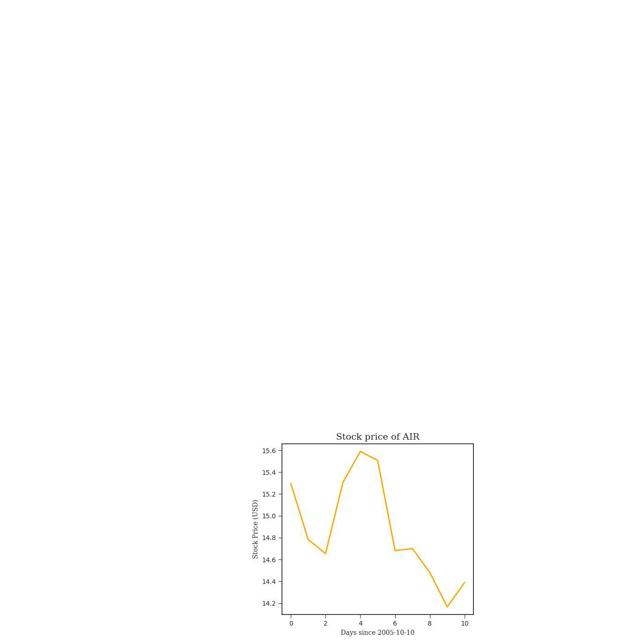Graph: (226, 417, 522, 639)
